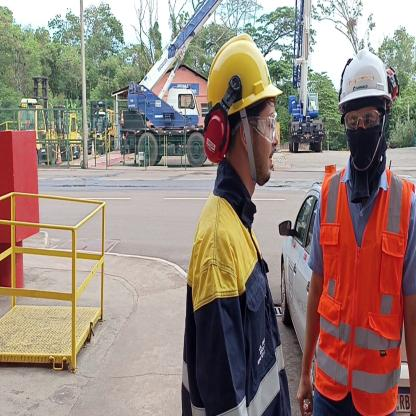Balaclava: (339, 103, 392, 180)
C_eletrica: (174, 180, 296, 416)
Capacete: (199, 26, 284, 110), (335, 53, 395, 103)
colete: (321, 173, 400, 408)
